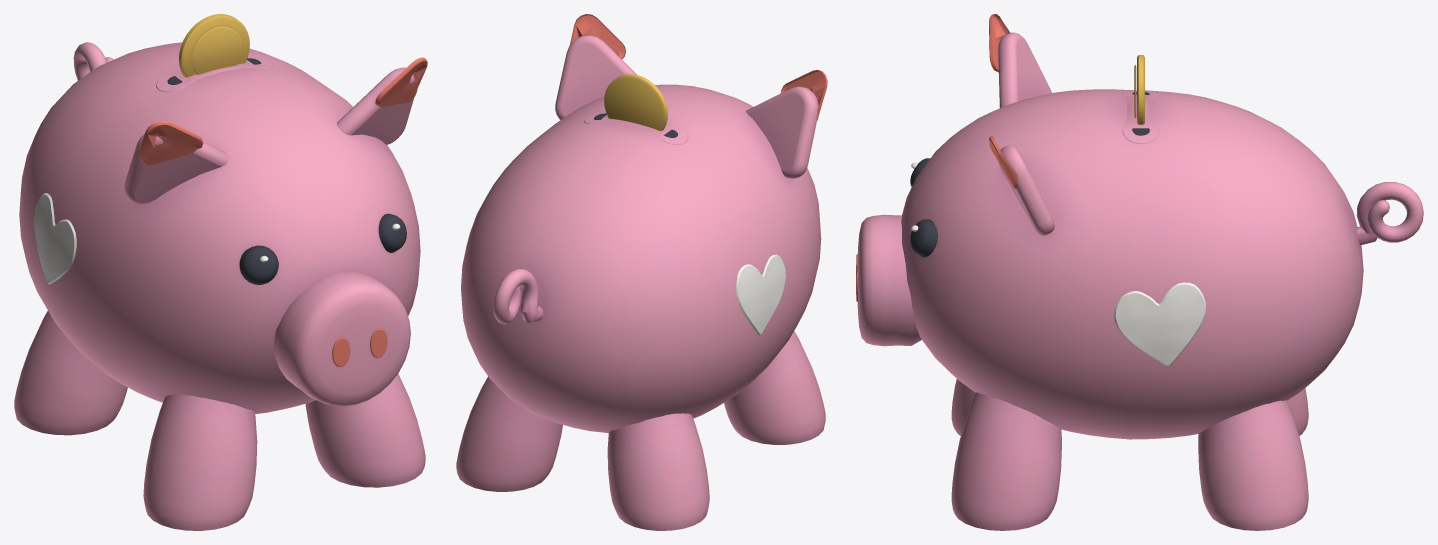
File: piggy-bank.glb
The picture shows the model from 3 angles, left to right: view 1: azimuth 30°, elevation 25°; view 2: azimuth 150°, elevation 25°; view 3: azimuth 270°, elevation 25°; orthographic projection. The views are drawn at different scales.
Visible parts, largest first — view 1: piggy-bank_body; view 2: piggy-bank_body; view 3: piggy-bank_body.
Part boxes in pixels (x1,y1,x2,y2): piggy-bank_body: [14, 14, 427, 530]; piggy-bank_body: [456, 14, 827, 530]; piggy-bank_body: [856, 14, 1423, 530].
Bounding box in the file's own units: 0.129 × 0.1674 × 0.2091.
Materials: 1 (1 with a texture image).
